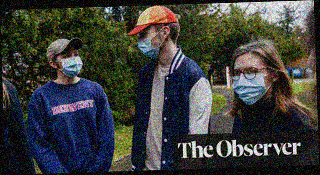with_mask: (231, 64, 270, 108), (137, 30, 162, 61), (57, 49, 84, 77)
